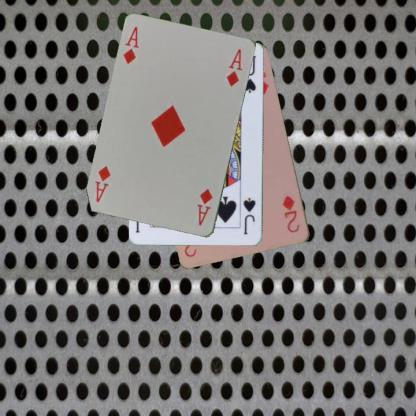2d: (280, 193, 302, 234)
Ad: (121, 24, 140, 66), (195, 186, 214, 227)
Js: (241, 195, 257, 236)
